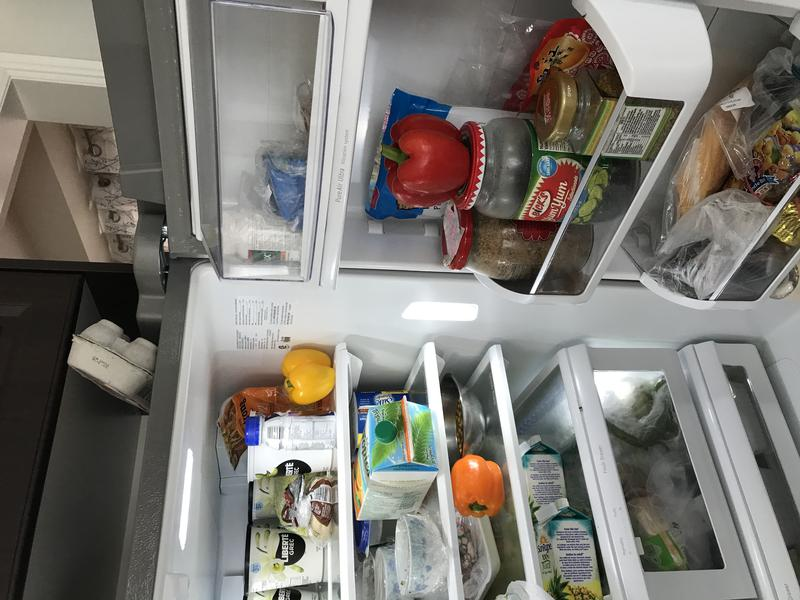orange_pepper: (444, 447, 509, 520)
red_pepper: (374, 110, 481, 216)
yellow_pepper: (271, 340, 342, 406)
